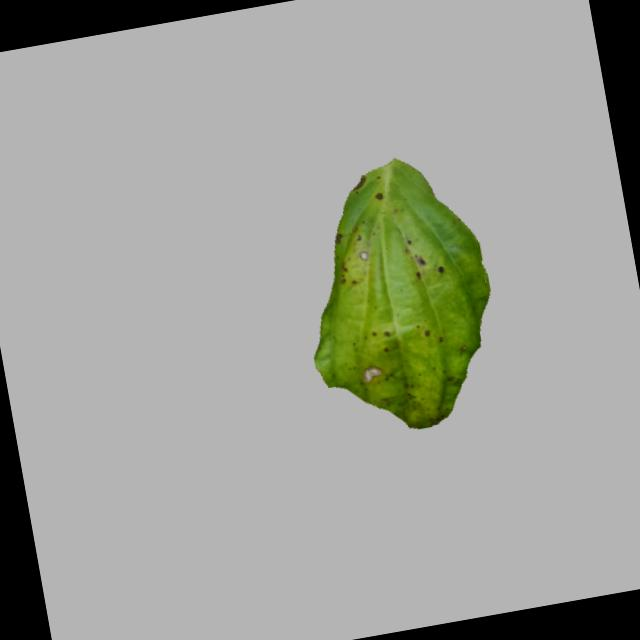yellow-mottle-virus: (278, 138, 520, 442)
